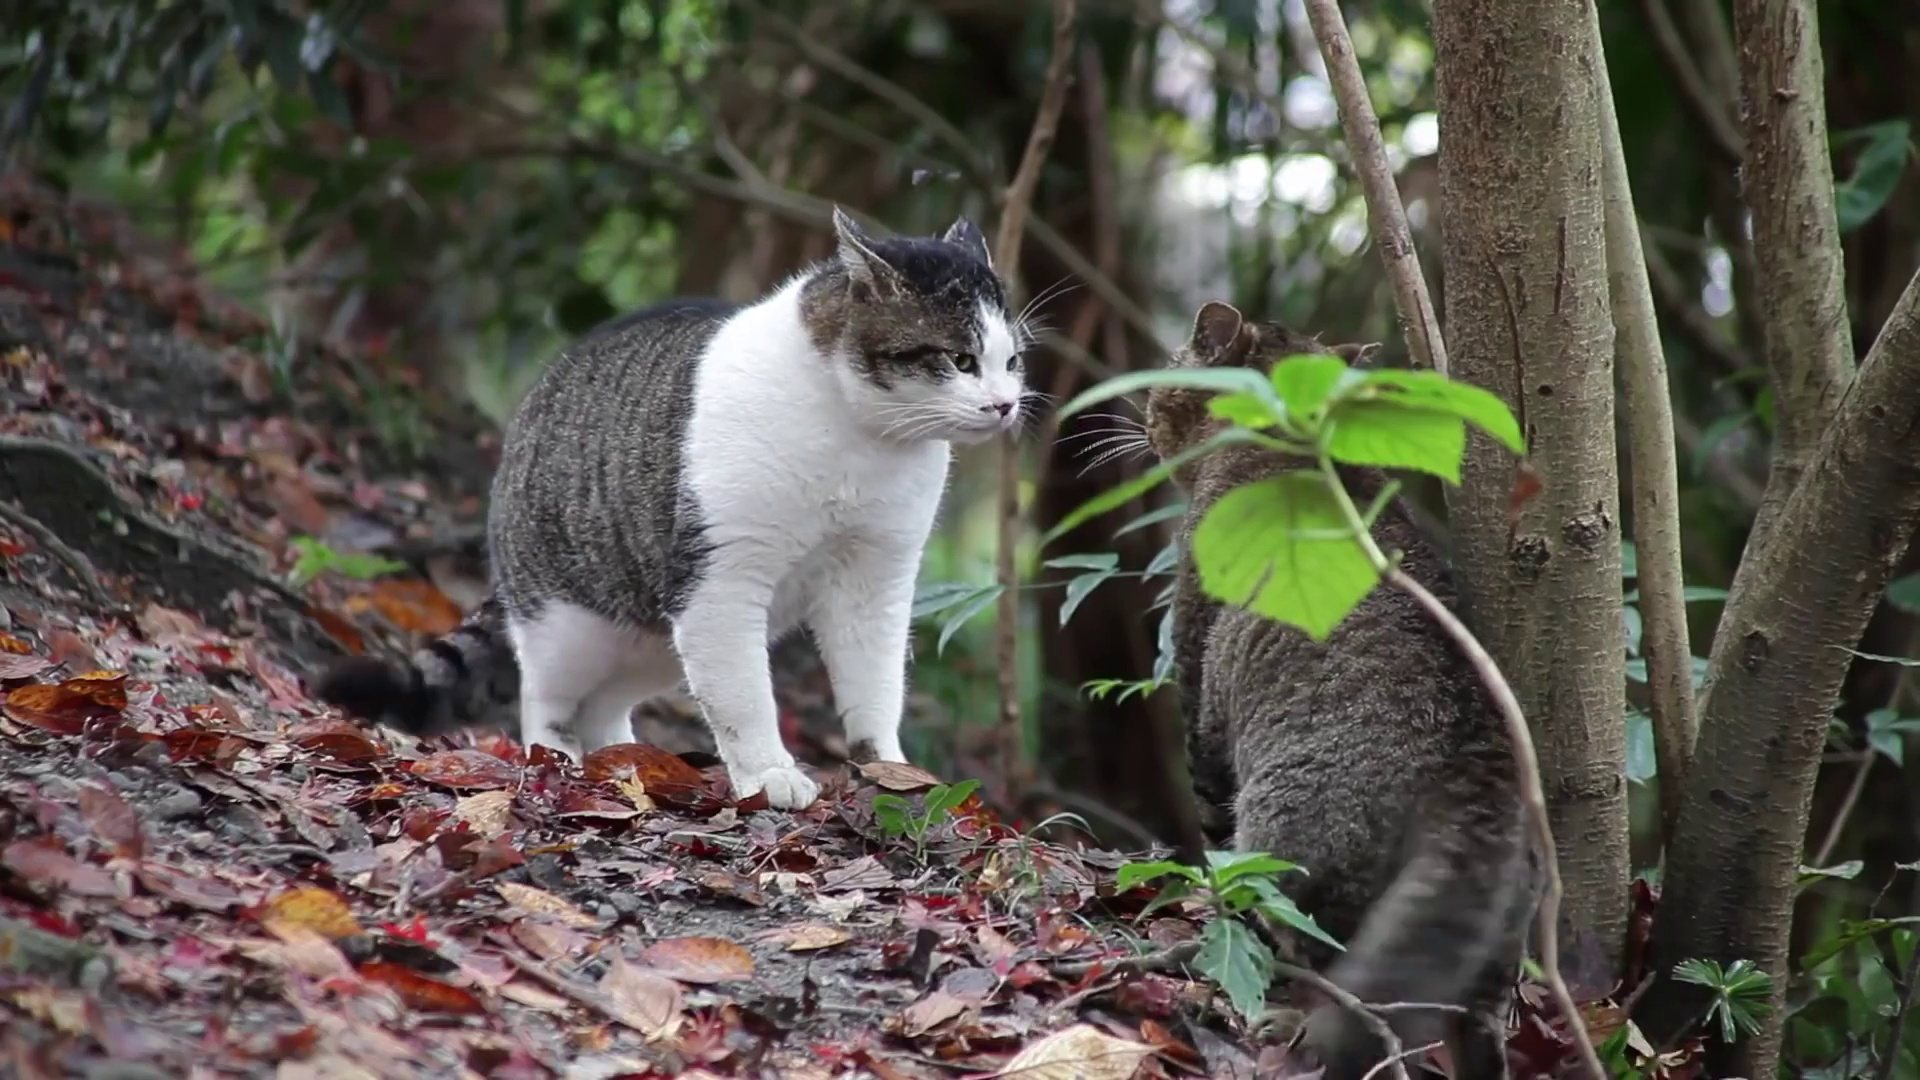black-white: (310, 204, 1026, 808)
pure black: (1145, 301, 1532, 1068)
